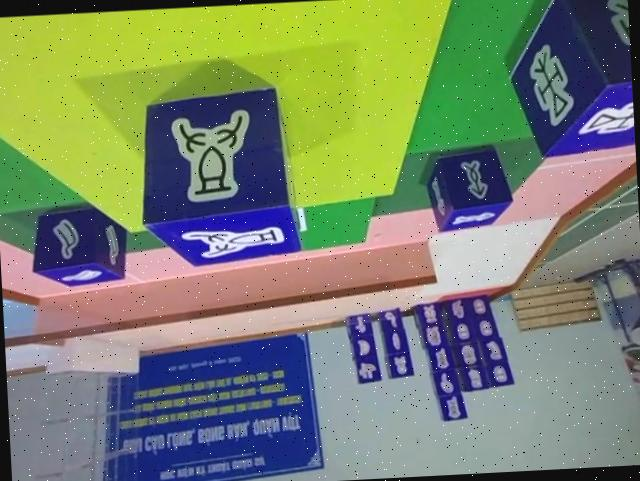R2 Real Blue: (134, 80, 304, 276), (504, 0, 636, 159), (28, 199, 130, 285), (423, 143, 514, 232)
